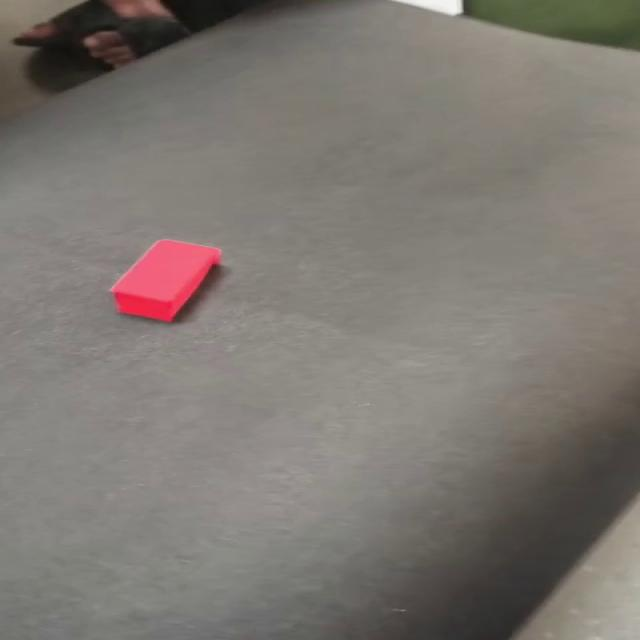red block: (108, 238, 221, 322)
